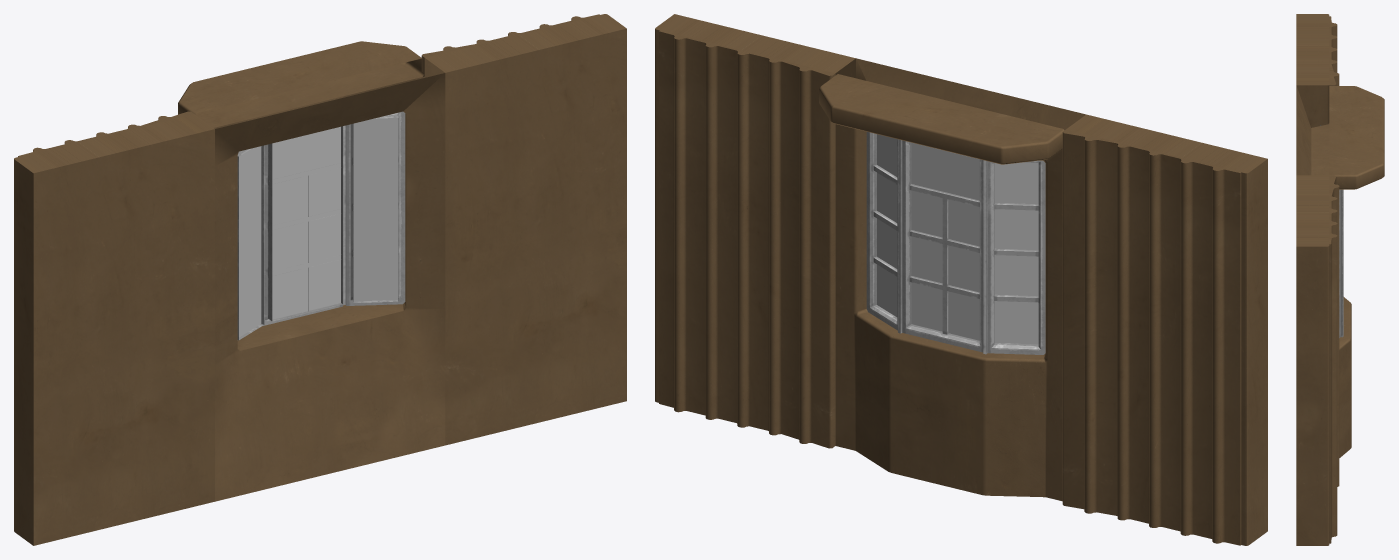
Rendered from SM_Building02Wall04R.fbx.
The picture shows the model from 3 angles, left to right: view 1: azimuth 30°, elevation 25°; view 2: azimuth 150°, elevation 25°; view 3: azimuth 270°, elevation 25°; orthographic projection. The views are drawn at different scales.
Visible parts, largest first — view 1: SM_Building02Wall04R_LOD0; view 2: SM_Building02Wall04R_LOD0; view 3: SM_Building02Wall04R_LOD0.
Boxes of the visible parts, x1,y1,x2,y2 form: SM_Building02Wall04R_LOD0: (14,14,626,545); SM_Building02Wall04R_LOD0: (655,14,1267,545); SM_Building02Wall04R_LOD0: (1296,14,1384,545).
Bounding box in the file's own units: 500 × 80 × 300.
Materials: 4 (3 with a texture image).
